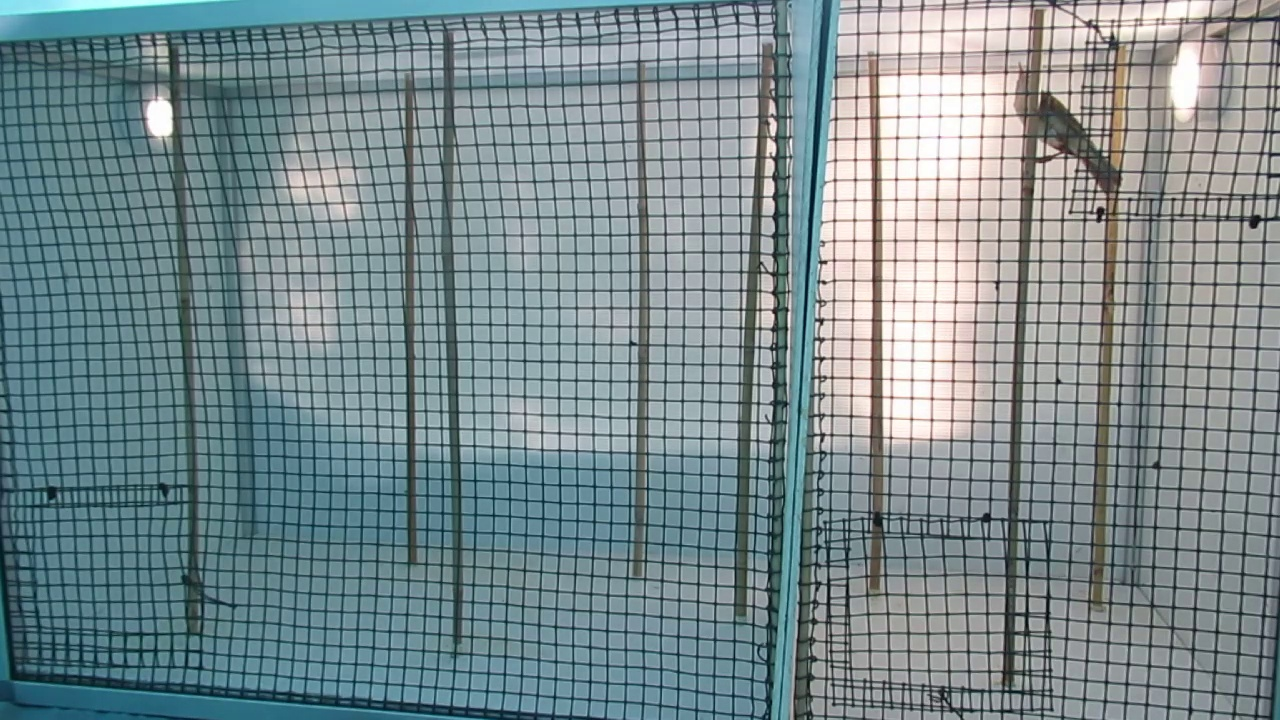bird: (1012, 62, 1109, 198)
stick: (1002, 13, 1044, 684), (733, 46, 777, 617), (1089, 45, 1129, 605), (167, 49, 204, 630), (438, 36, 465, 642), (401, 78, 421, 564), (866, 59, 883, 588), (634, 62, 649, 577)
